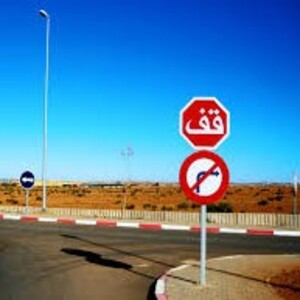stop: (177, 96, 231, 150)
